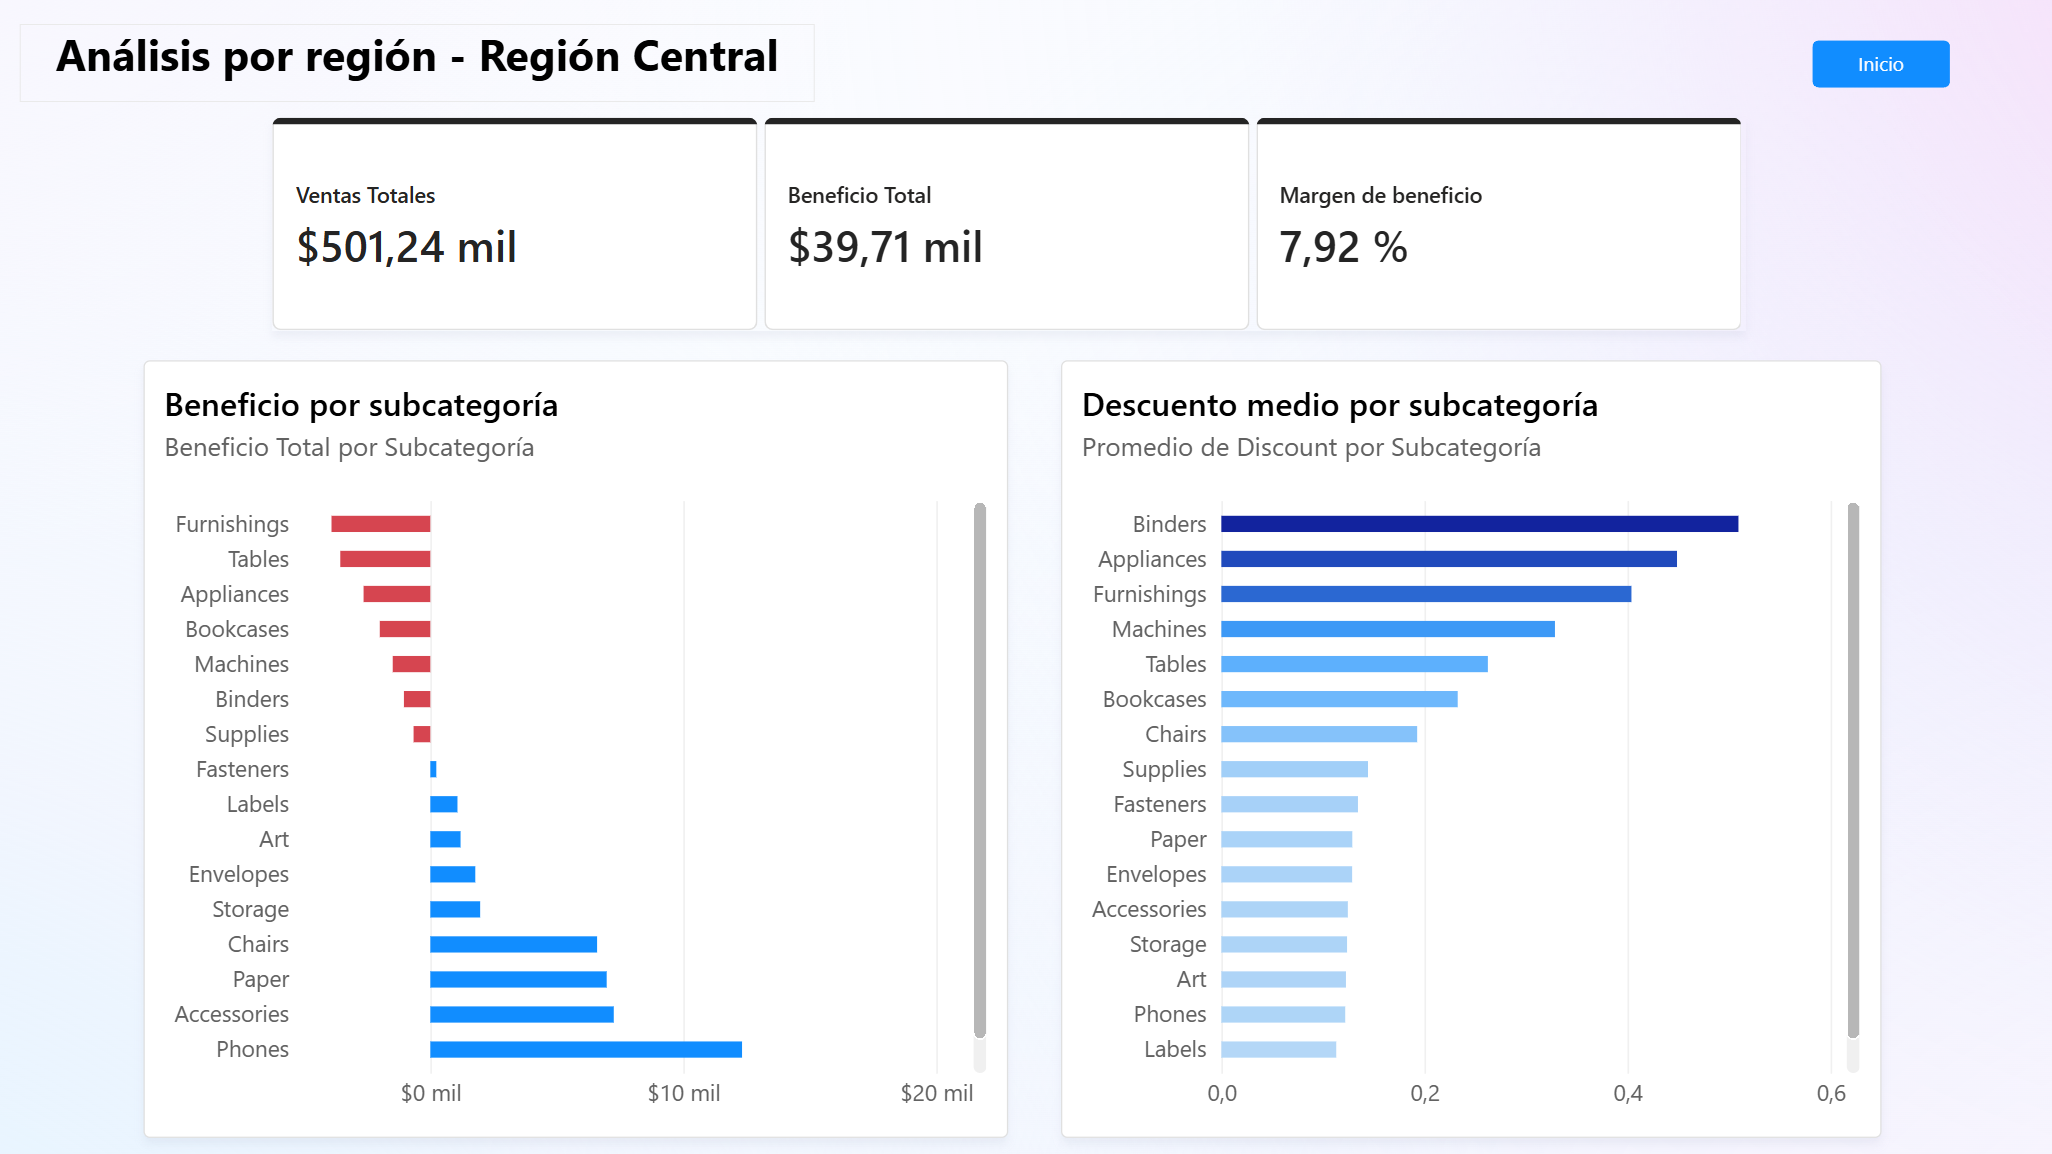

Layout of this report page (visuals, bound fields, positions):
{"tool":"powerbi","page":{"name":"Análisis Región Central","canvas":[1280,720],"ordinal":4},"visuals":[{"type":"textbox","box":[17.7,21.3,489.9,48.7],"z":0},{"type":"cardVisual","fields":{"Data":["Sample - Superstore._Total_Sales","Sample - Superstore._Total_Profit","Sample - Superstore._Net_Profit_Margin"]},"box":[173.4,79.2,907.7,131.2],"z":1000},{"type":"barChart","title":"Beneficio por subcategoría","fields":{"Y":["Sample - Superstore.Beneficio Total"],"Category":["Sample - Superstore.Sub-Category"]},"box":[94.2,228.9,532.7,479],"z":2000},{"type":"barChart","title":"Descuento medio por subcategoría","fields":{"Y":["Avg(Sample - Superstore.Discount)"],"Category":["Sample - Superstore.Sub-Category"]},"box":[659.5,228.9,505.4,479],"z":3000},{"type":"actionButton","box":[1122.5,31.9,85.1,29.2],"z":4000}]}

Visuals, with their boxes in screenshot pixels (x1, y1, x2, y2), scaled from the page's 1280x720 canvas onto the 2052x1154 screenshot:
textbox: x1=28 y1=34 x2=814 y2=112
cardVisual - Sample - Superstore._Total_Sales x Sample - Superstore._Total_Profit: x1=278 y1=127 x2=1733 y2=337
"Beneficio por subcategoría" barChart: x1=151 y1=367 x2=1005 y2=1135
"Descuento medio por subcategoría" barChart: x1=1057 y1=367 x2=1867 y2=1135
actionButton: x1=1800 y1=51 x2=1936 y2=98
